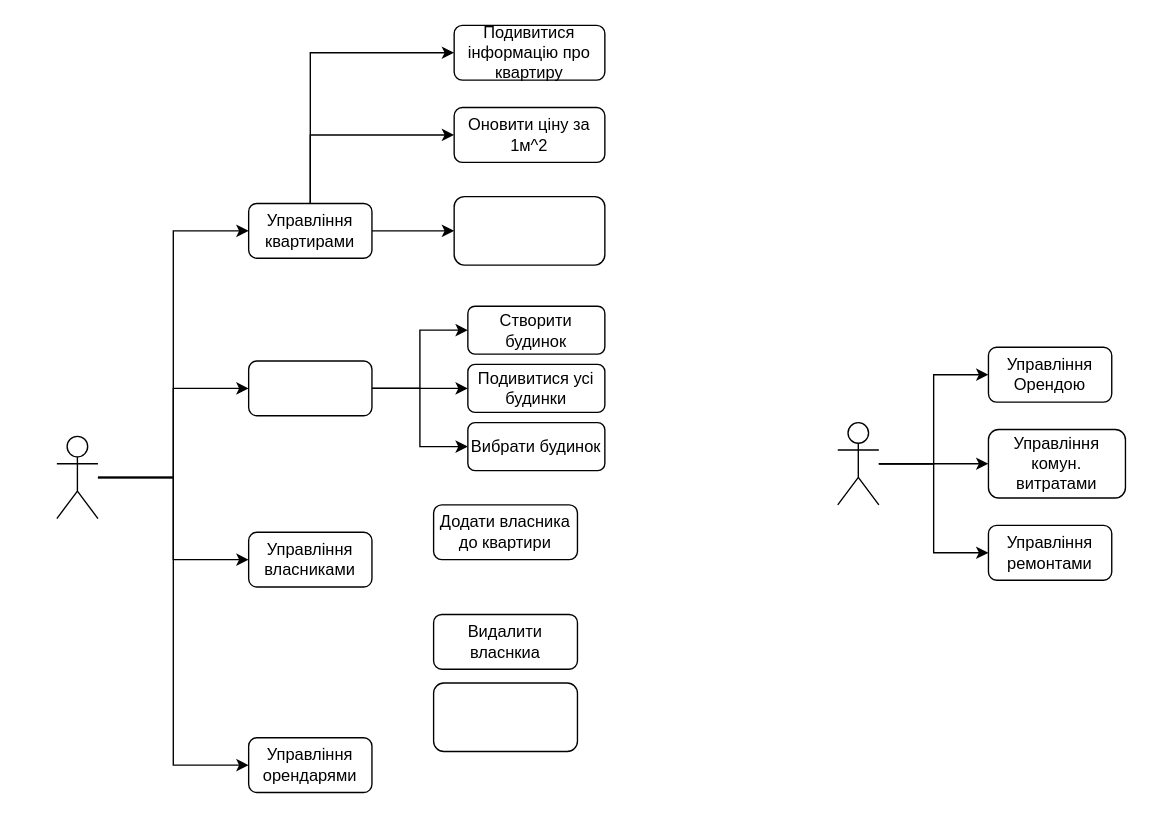
Image size: 1149x817. Some labels were removed from this diagram. Each missing label, with the box of its shape:
Actor: (836, 421, 879, 505)
Адміністратор: (55, 435, 98, 519)
Додати інформацію про кімнату в квартирі: (453, 195, 605, 265)
Порахувати загальний дохід зі всіх квартир: (432, 682, 577, 751)
Управління будинками: (247, 360, 372, 416)
